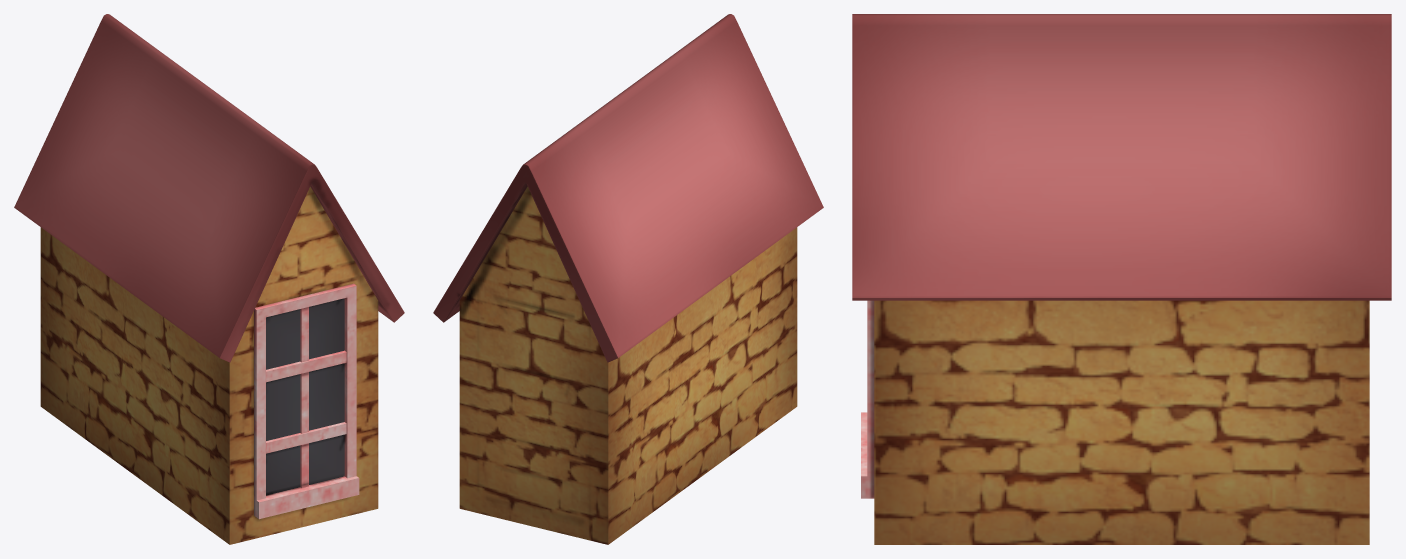
File: sb_obj_outdoor024_PrincessCastle01_hut01.fbx
3 views of the same model, side by side, from view 1: azimuth 30°, elevation 25°; view 2: azimuth 150°, elevation 25°; view 3: azimuth 270°, elevation 25° (orthographic). The views are drawn at different scales.
Parts seen in each view (by area): view 1: sb_obj_outdoor024_PrincessCastle01_hut01; view 2: sb_obj_outdoor024_PrincessCastle01_hut01; view 3: sb_obj_outdoor024_PrincessCastle01_hut01.
Boxes of the visible parts, box(x1,y1,x2,y2) form: sb_obj_outdoor024_PrincessCastle01_hut01: box(14, 14, 404, 544); sb_obj_outdoor024_PrincessCastle01_hut01: box(433, 14, 823, 544); sb_obj_outdoor024_PrincessCastle01_hut01: box(852, 14, 1391, 544).
Size of the model in its own units: 1.09 by 2.07 by 2.09.
